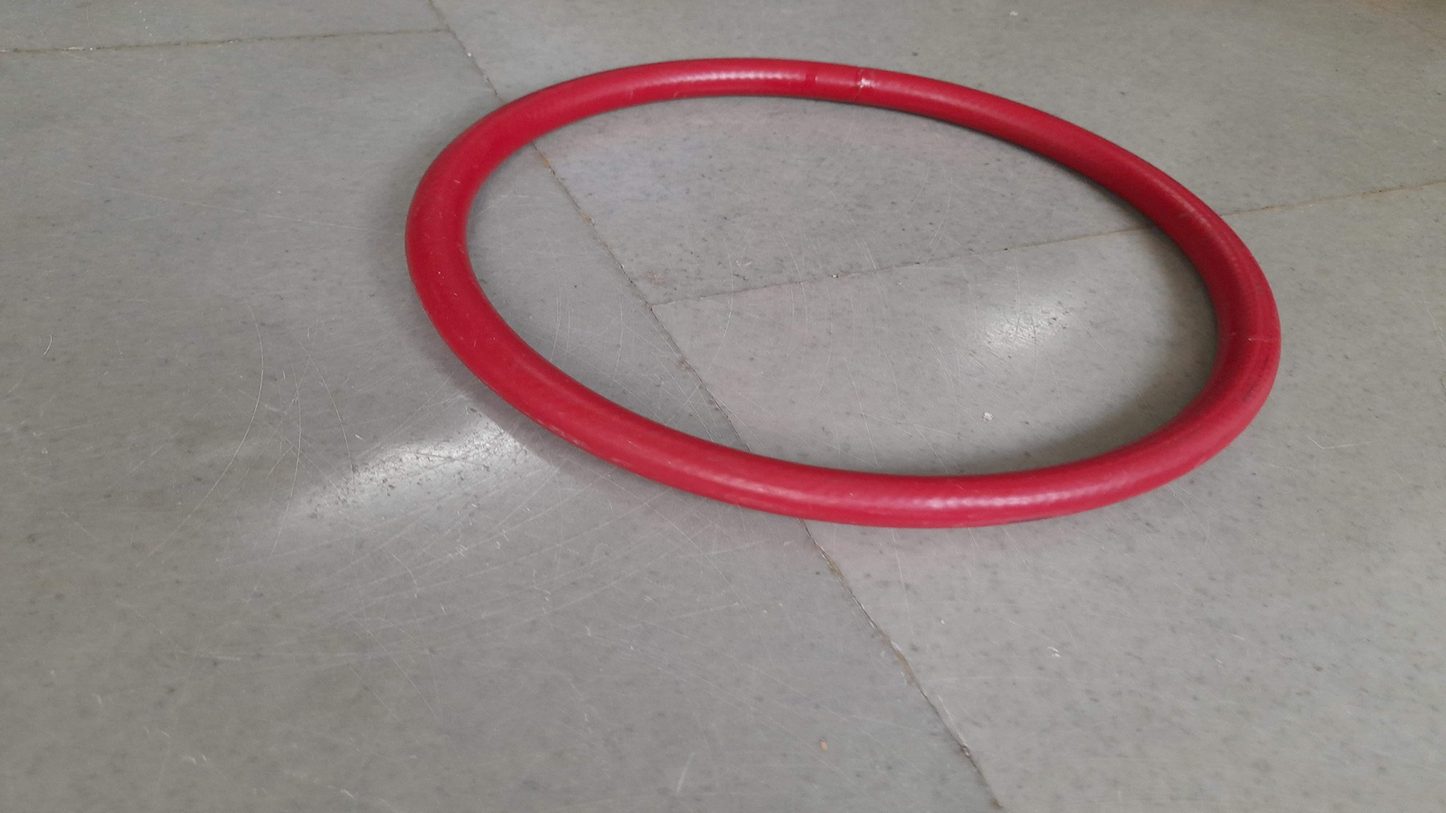Red ring: (403, 56, 1283, 528)
